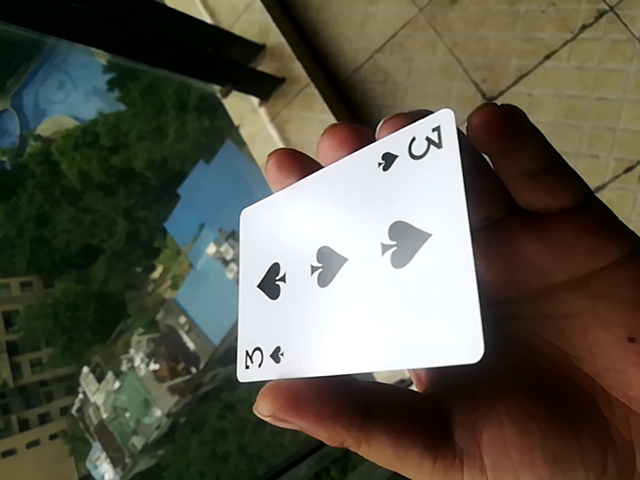ht 3: (226, 99, 485, 387)
